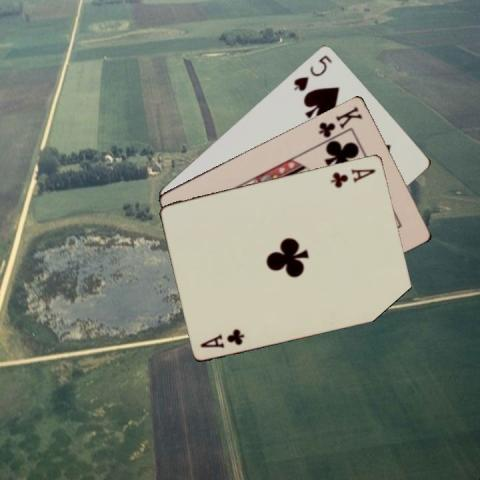5s: (290, 51, 333, 93)
Ac: (328, 165, 377, 189), (197, 326, 246, 349)
Kc: (315, 102, 364, 138)
